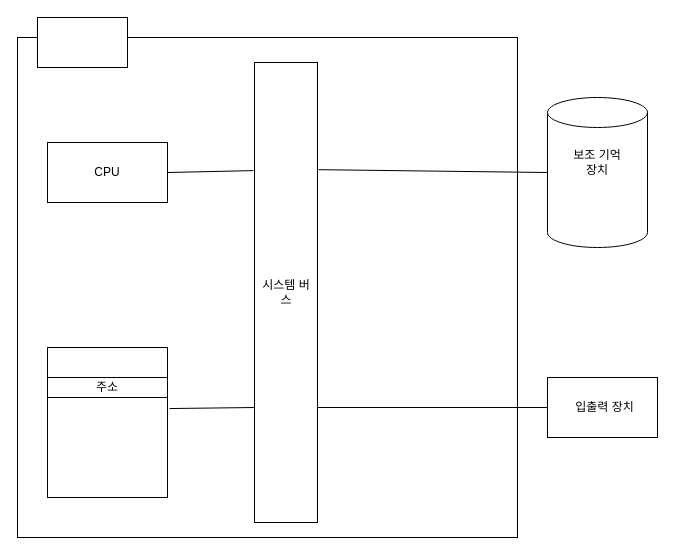
Image size: 675x555. Some labels were removed from this diagram. Here are the shapes that lost their labels. From the top down, the centre of each, then its label:
the point at 82,42: 메인보드
the point at 107,362: 메모리
